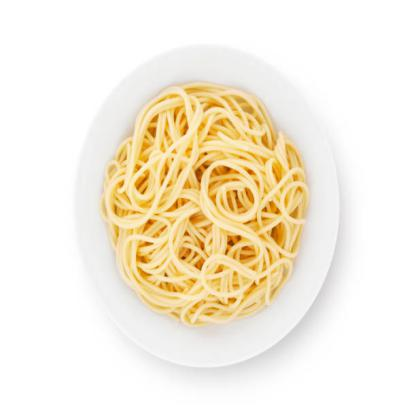Noodles: (100, 84, 312, 328)
